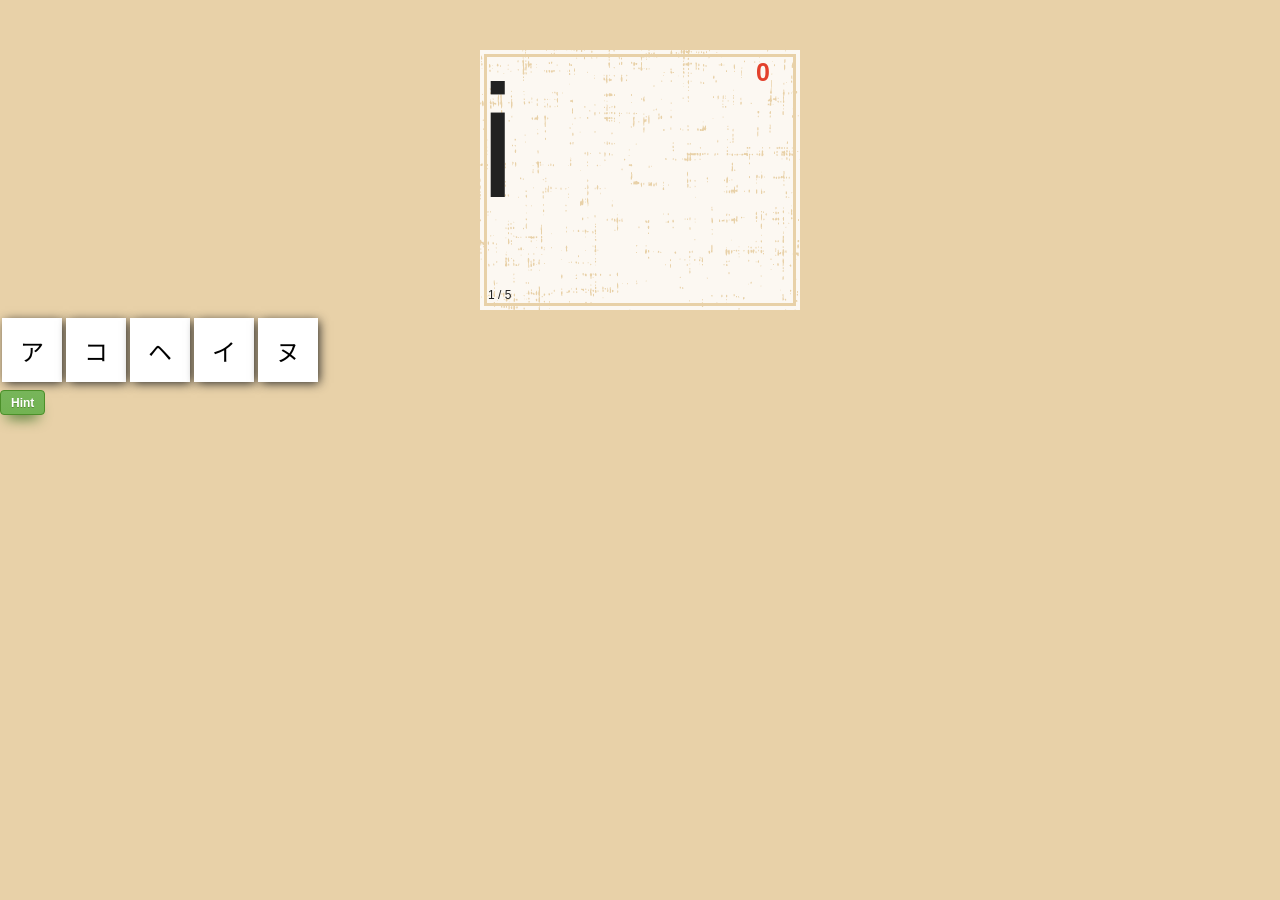
Test case: Game page › asks romaji and expects katakana when katakana is selected
The width and height of the screenshot is (1280, 900).
Step 1. Click the button "イ" → (224, 350), box x1=194 y1=318 x2=254 y2=382
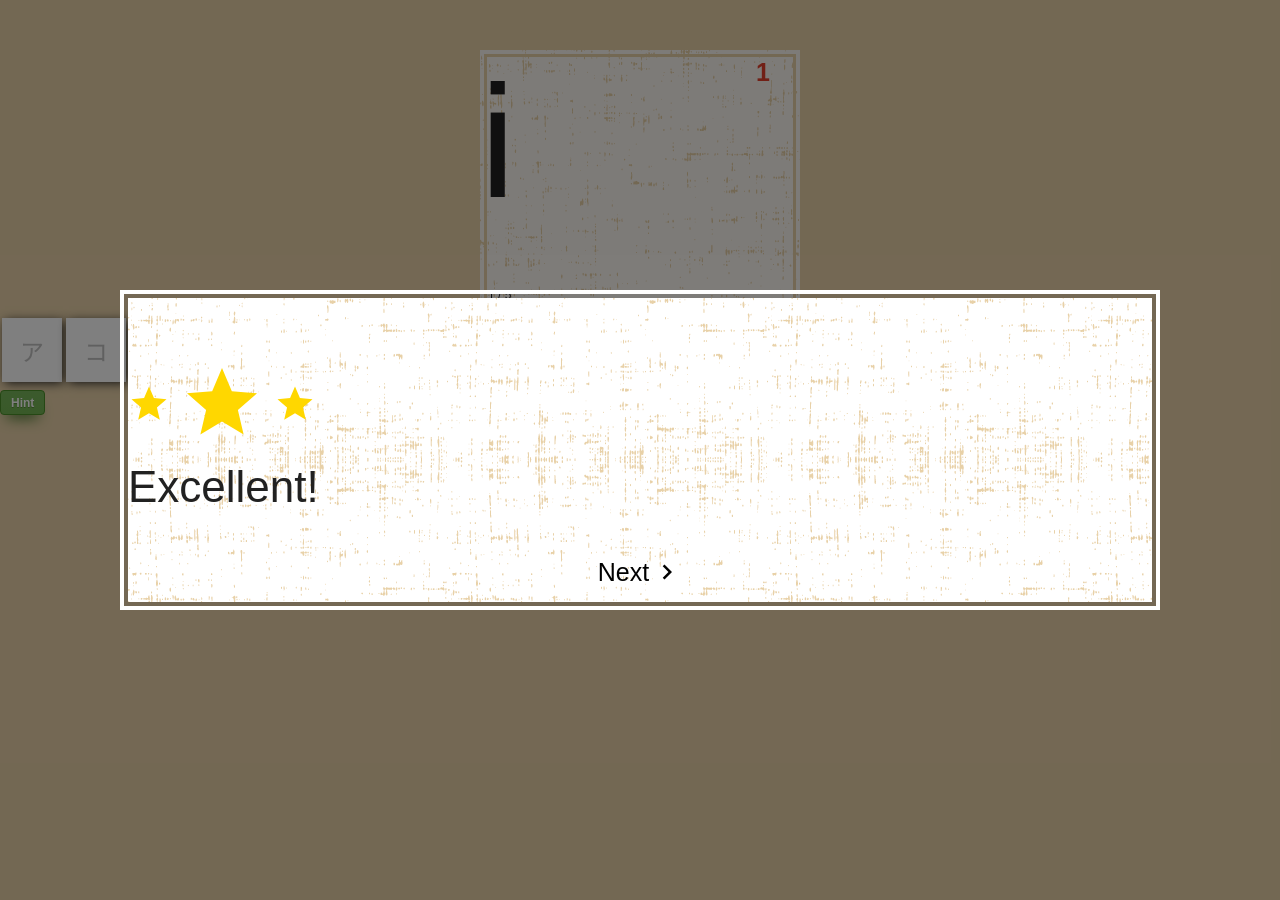
Result: the element with class "game" has class "correct" at x1=0 y1=50 x2=1279 y2=423
